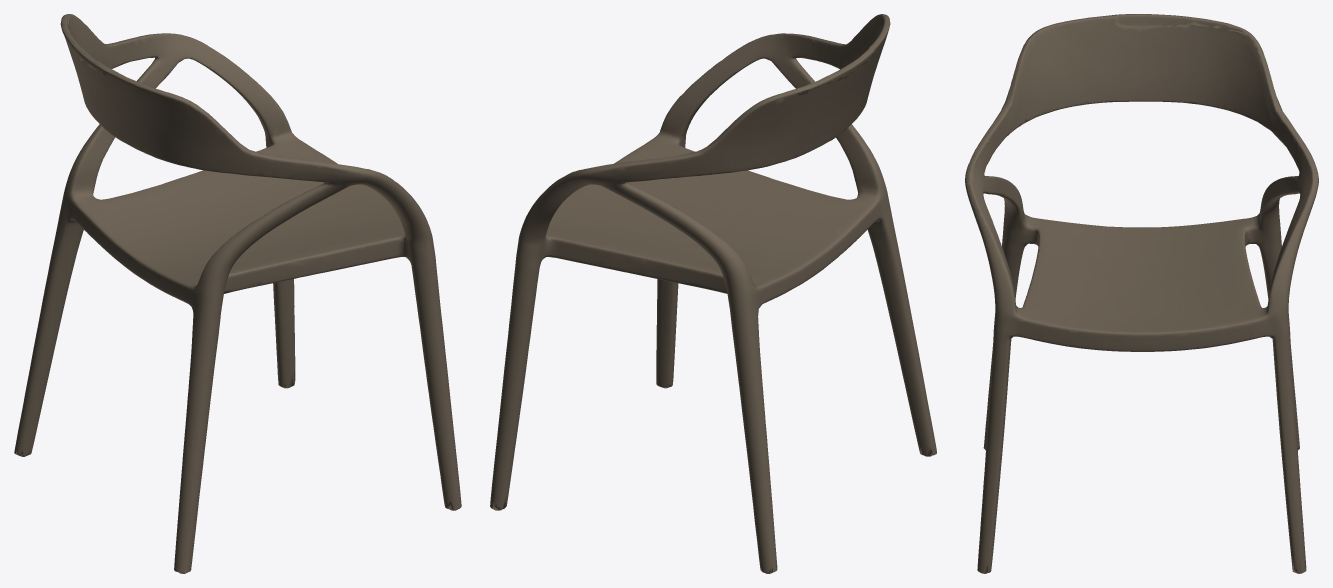
File: ND-0606__Grace6.glb
3 views of the same model, side by side, from view 1: azimuth 30°, elevation 25°; view 2: azimuth 150°, elevation 25°; view 3: azimuth 270°, elevation 25° (orthographic). The views are drawn at different scales.
Visible parts, largest first — view 1: tripo_node_2e22271b-d331-4cb1-b050-75c7afa1819d; view 2: tripo_node_2e22271b-d331-4cb1-b050-75c7afa1819d; view 3: tripo_node_2e22271b-d331-4cb1-b050-75c7afa1819d.
Part boxes in pixels (x1,y1,x2,y2): tripo_node_2e22271b-d331-4cb1-b050-75c7afa1819d: (14, 14, 461, 573); tripo_node_2e22271b-d331-4cb1-b050-75c7afa1819d: (490, 14, 936, 573); tripo_node_2e22271b-d331-4cb1-b050-75c7afa1819d: (965, 14, 1318, 573).
Size of the model in its own units: 0.6463 by 0.9809 by 0.7289.
